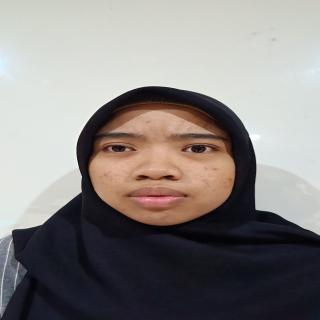Takut: (84, 96, 251, 229)
